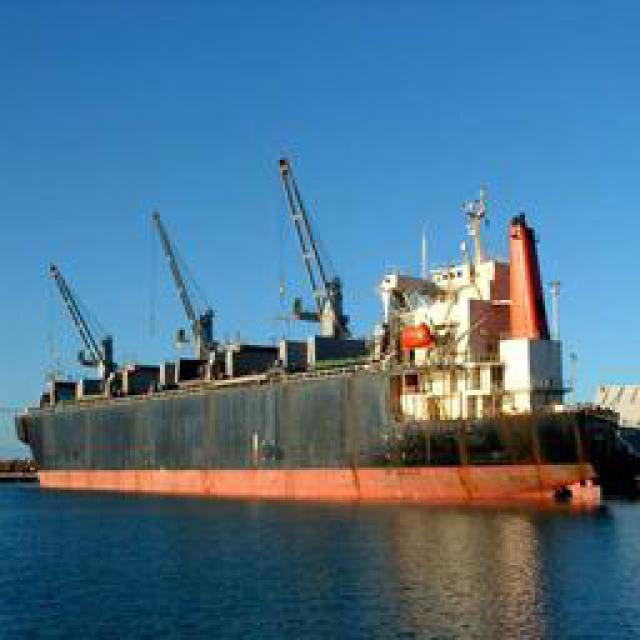Ship: (16, 156, 629, 576)
